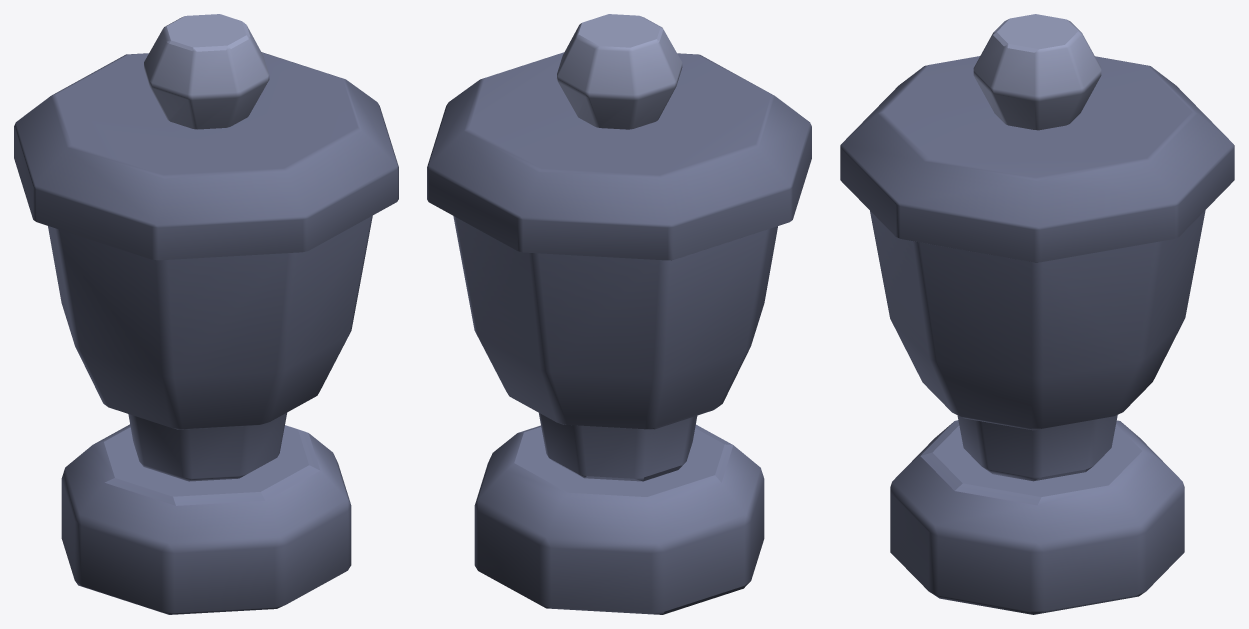
Rendered from kenney-graveyard__urn-round.glb.
The picture shows the model from 3 angles, left to right: view 1: azimuth 30°, elevation 25°; view 2: azimuth 150°, elevation 25°; view 3: azimuth 270°, elevation 25°; orthographic projection.
Parts seen in each view (by area): view 1: urn-round, lid; view 2: urn-round, lid; view 3: urn-round, lid.
Part boxes in pixels (box(x1,y1,x2,y2)): urn-round: box(48, 215, 372, 614); lid: box(14, 14, 398, 260); urn-round: box(453, 216, 777, 614); lid: box(427, 14, 811, 260); urn-round: box(870, 210, 1205, 614); lid: box(840, 14, 1234, 262).
Bounding box in the file's own units: 0.2627 × 0.384 × 0.2627.
Materials: 1 (1 with a texture image).
